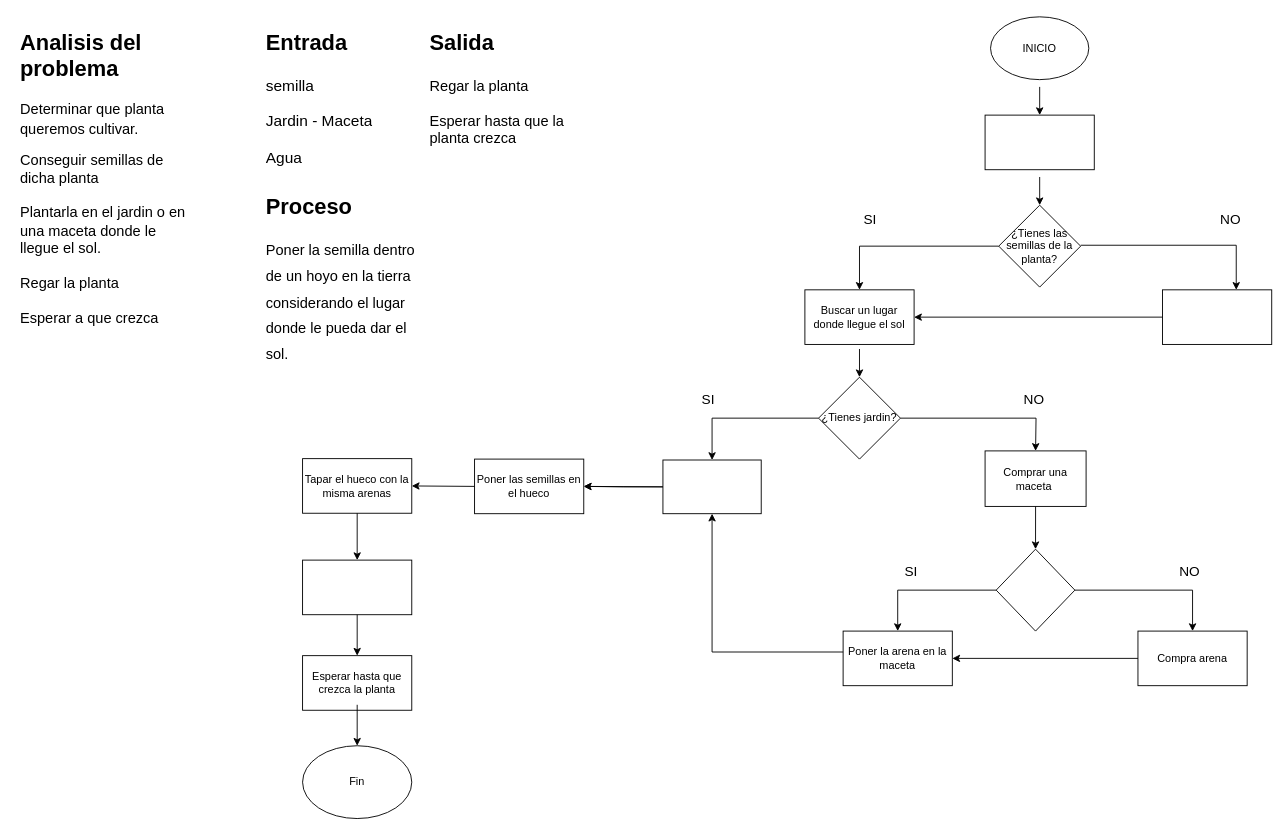
This 1288x834 diagram has some shape labels left out. The shapes that lost their labels are listed below. From the top down, each one's centre as x and y in pixels, then its label:
At (1039,142): "Determinar que planta se desea cultivar".
At (1217,316): "Comprar semillas".
At (711,486): "Hacer un hueco en la arena".
At (357,587): "Regar la planta".
At (1035,589): "¿Tienes arena?".
